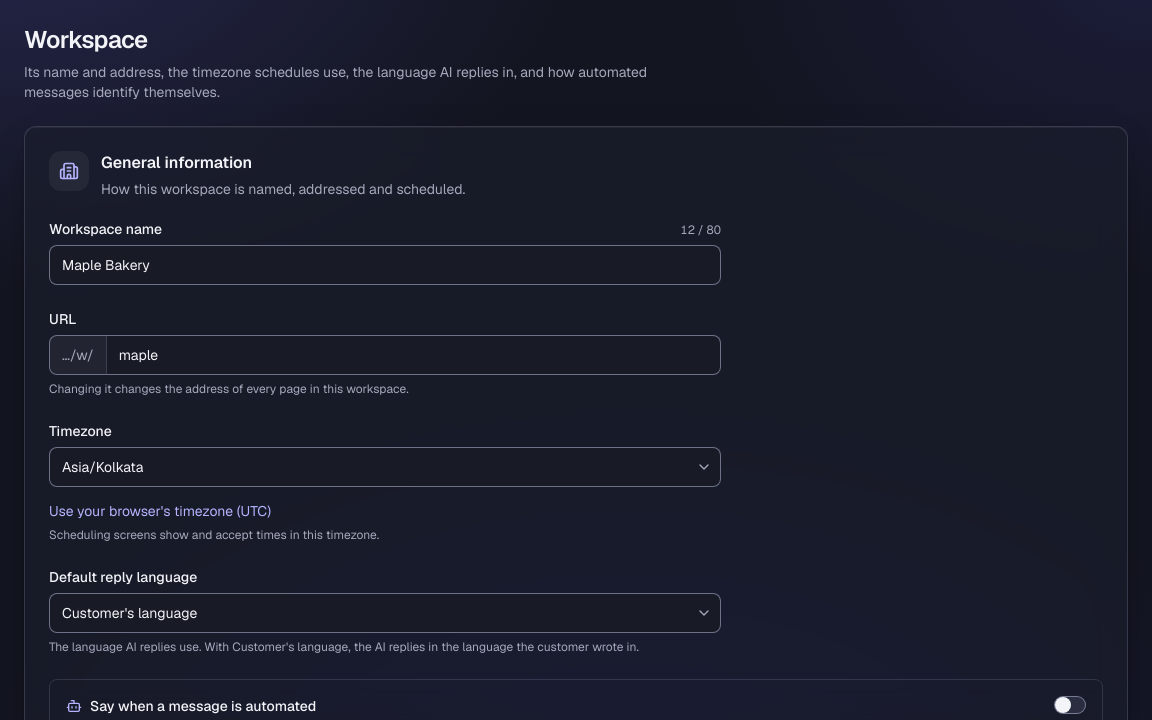
Test: the save bar (C-066) › a field the API refuses is marked on the field
Replace the text in the field labelled "URL" with "taken-slug" at (413, 355), box [107,336,720,374]
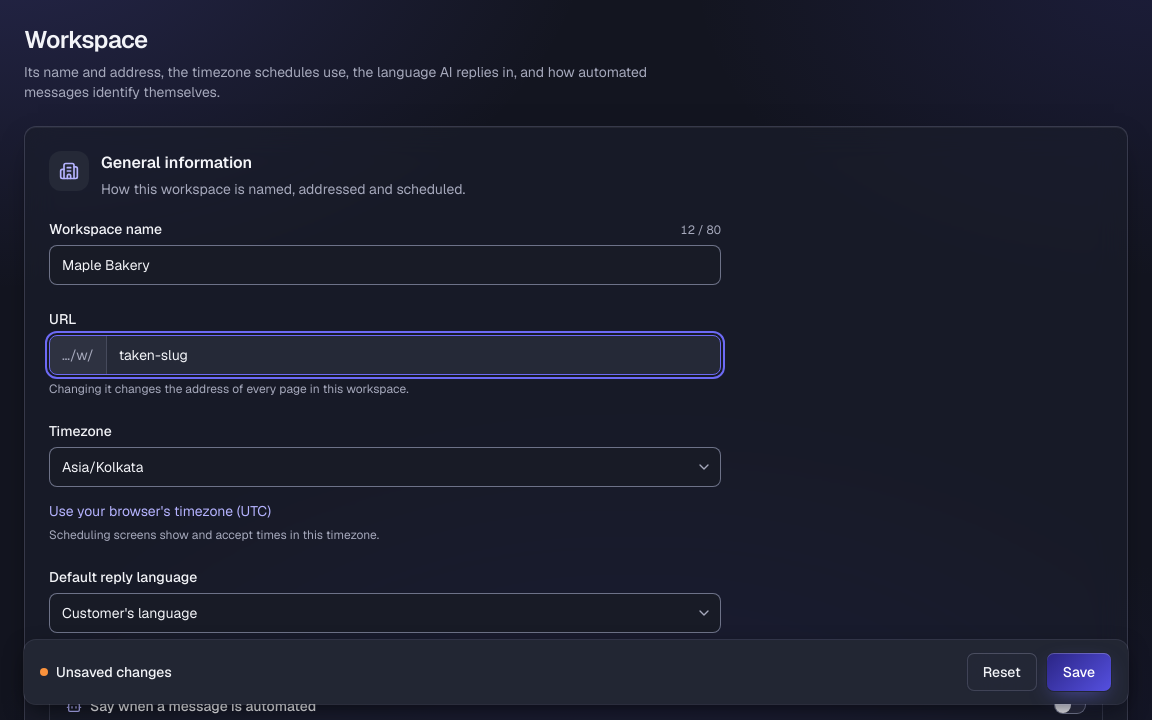
Click the button "Save" at (1079, 672), box [1046,652,1112,692]
(page scrolled)
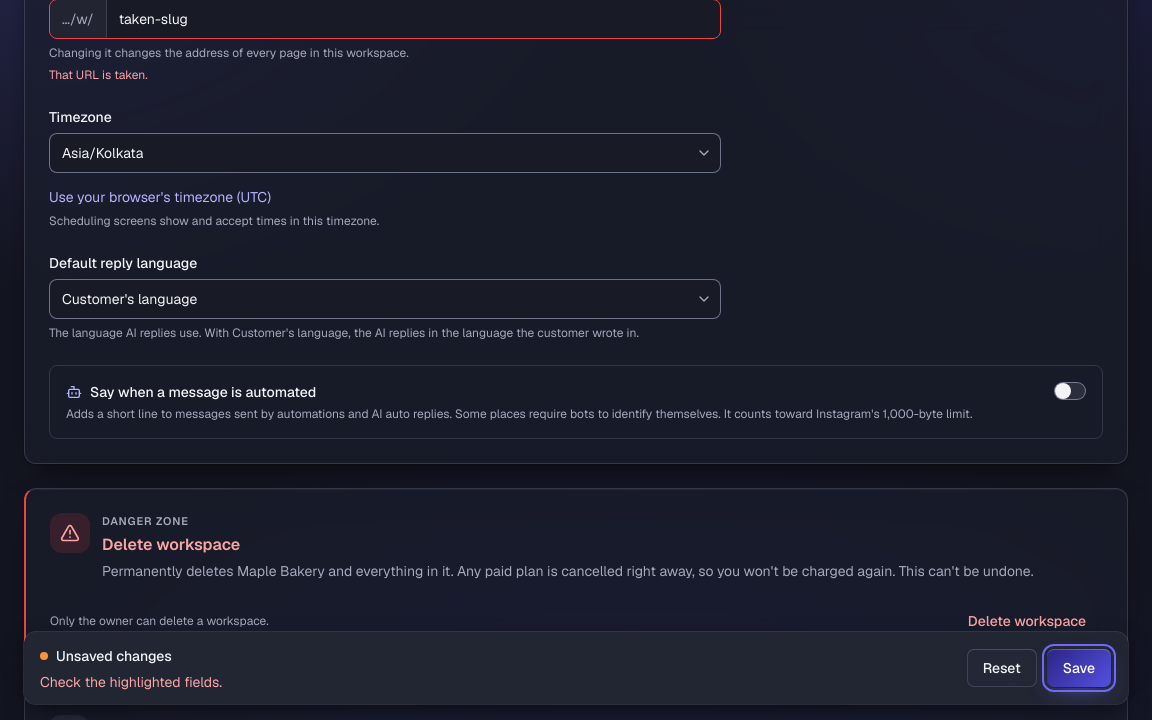
Expected: the text "That URL is taken." is shown, [49,67,148,83]
